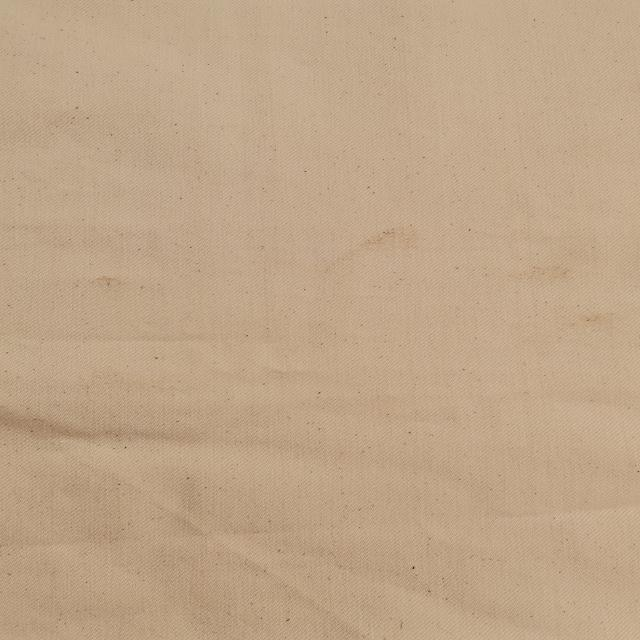taaaches: (326, 226, 428, 275), (78, 272, 150, 296), (514, 265, 580, 287), (572, 308, 618, 330)
